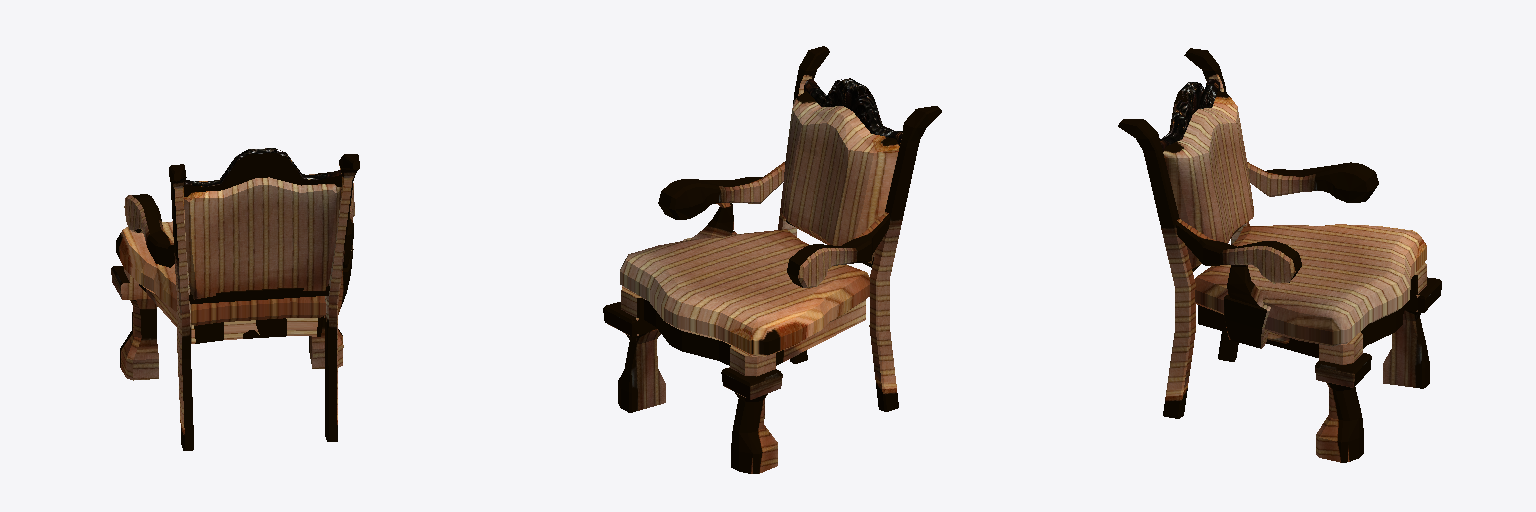
3 renders of one model, left to right at view 1: azimuth 30°, elevation 25°; view 2: azimuth 150°, elevation 25°; view 3: azimuth 270°, elevation 25°, orthographic.
Parts seen in each view (by area): view 1: LivingRoom_GEO_GRP_LivingRoom_Ceiling_04; view 2: LivingRoom_GEO_GRP_LivingRoom_Ceiling_04; view 3: LivingRoom_GEO_GRP_LivingRoom_Ceiling_04.
Part boxes in pixels (x1,y1,x2,y2): LivingRoom_GEO_GRP_LivingRoom_Ceiling_04: (111,148,359,450); LivingRoom_GEO_GRP_LivingRoom_Ceiling_04: (603,46,941,473); LivingRoom_GEO_GRP_LivingRoom_Ceiling_04: (1118,48,1441,462).
Bounding box in the file's own units: 0.9971 × 1.11 × 1.09.
Materials: 1 (1 with a texture image).